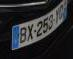2: (36, 21, 43, 36)
3: (49, 14, 54, 30)
5: (43, 16, 48, 34)
B: (20, 27, 27, 43)
X: (27, 23, 34, 41)
